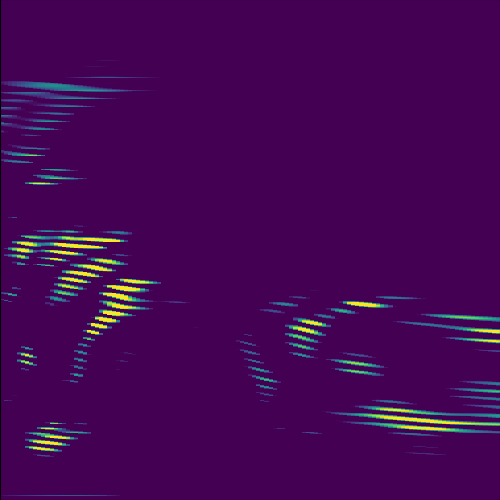semblance: (360, 401, 463, 437), (48, 256, 133, 292), (38, 232, 129, 263), (96, 277, 161, 310)
